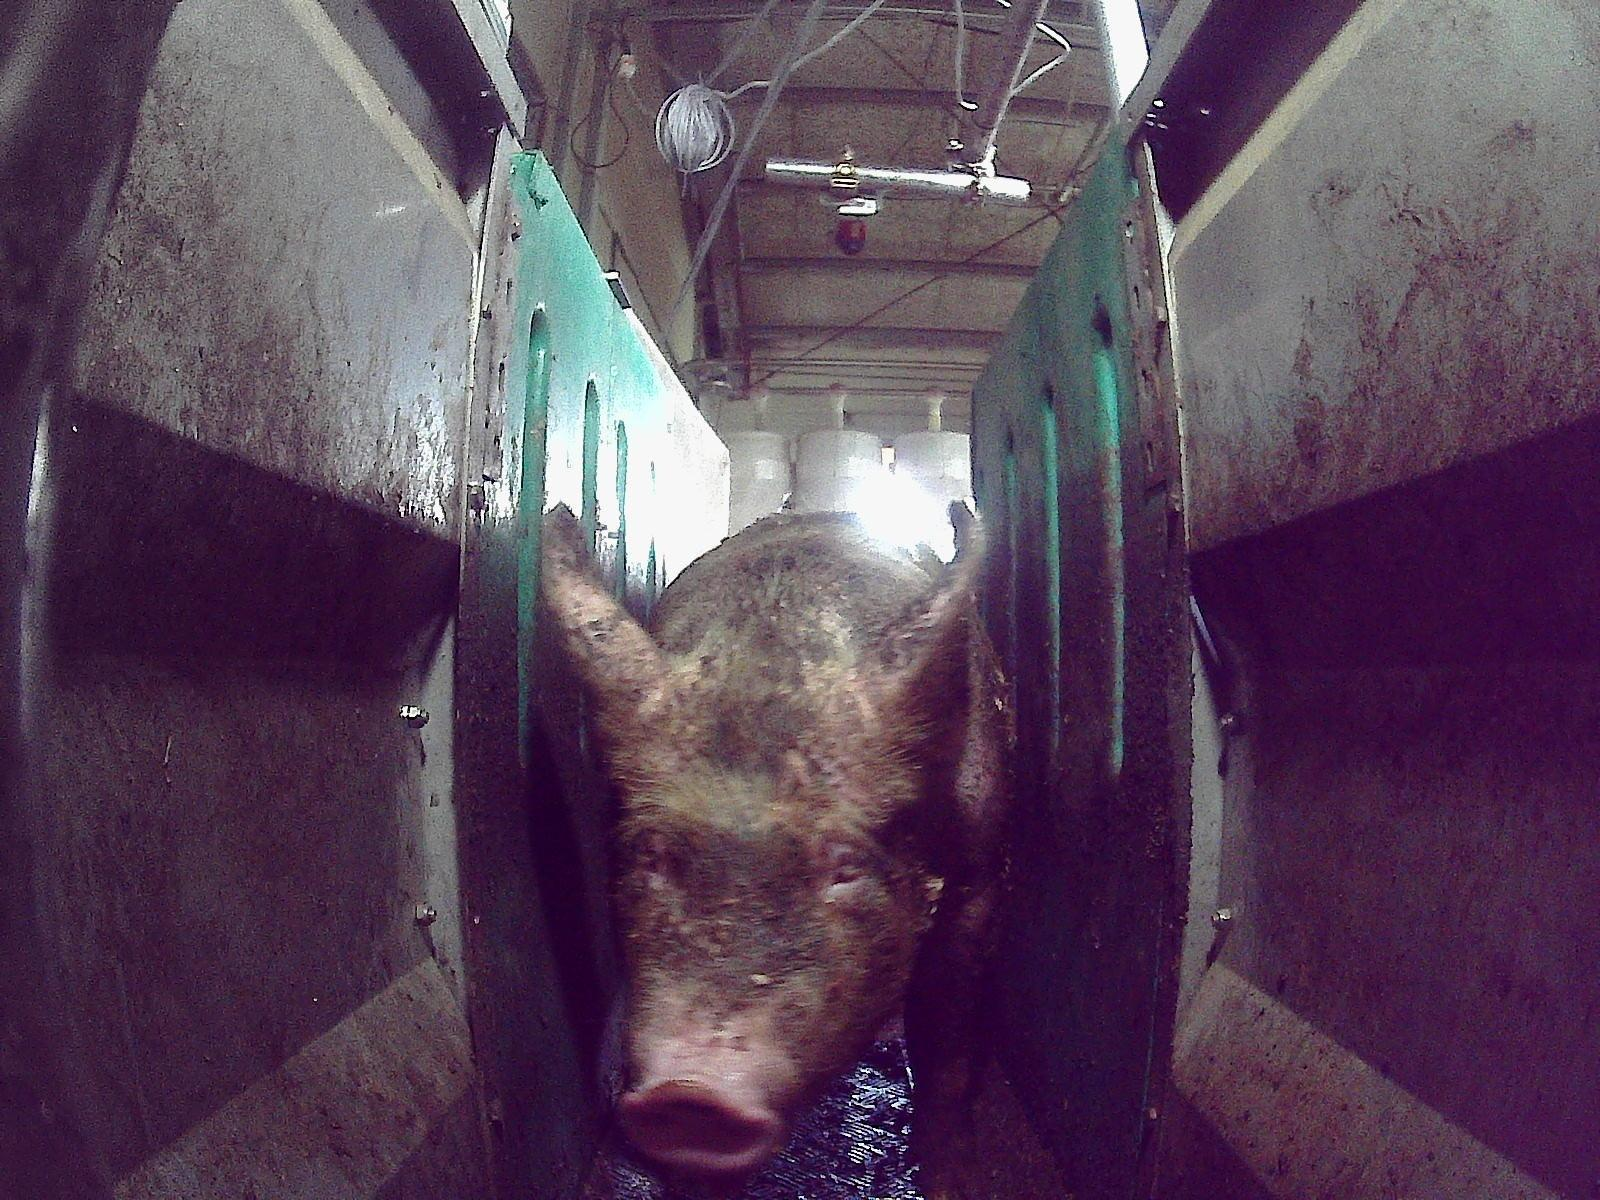Face: (589, 608, 931, 1175)
